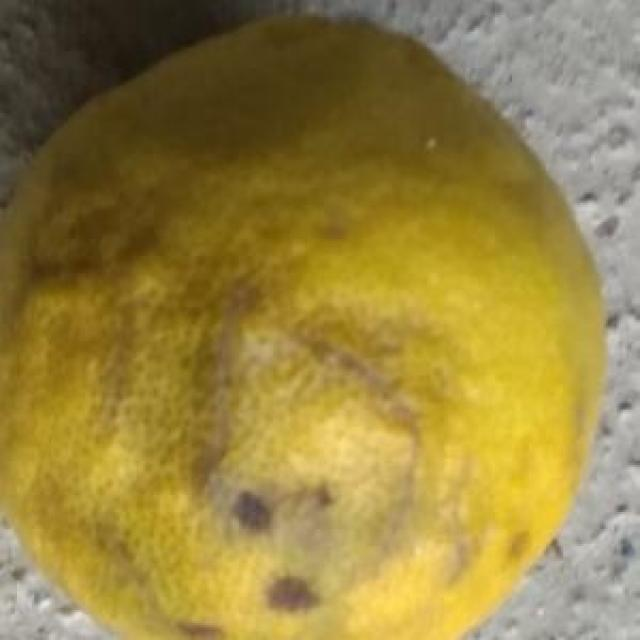lemon: (2, 9, 606, 640)
